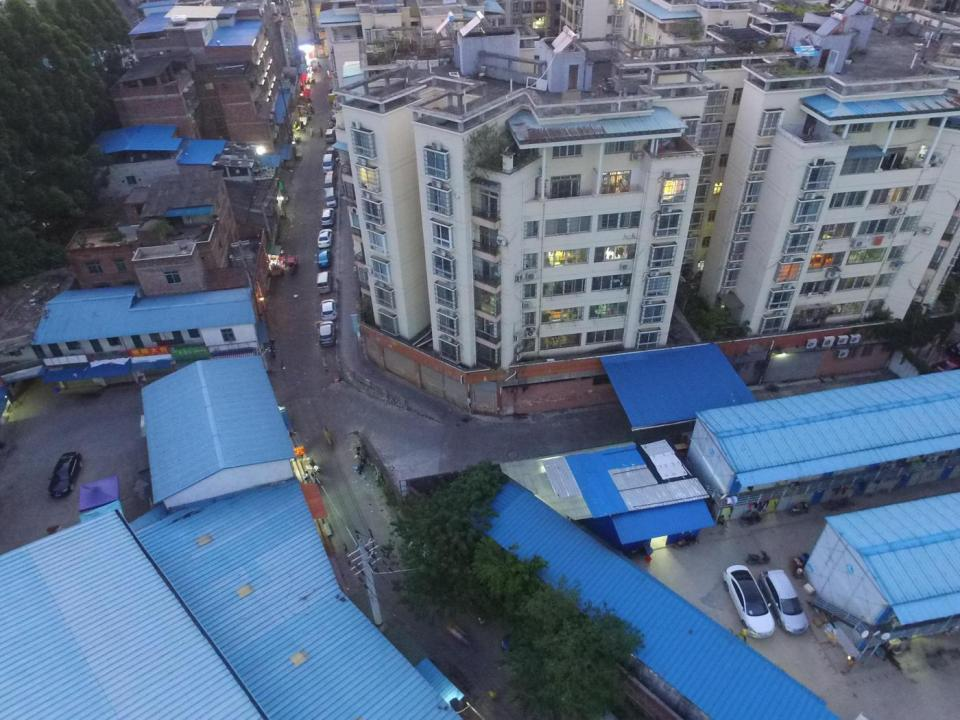car: (722, 564, 777, 639), (757, 568, 809, 636), (46, 449, 84, 499), (318, 320, 335, 346), (320, 298, 336, 320), (317, 228, 332, 248), (320, 207, 334, 227), (317, 249, 329, 267)
van: (316, 271, 331, 293), (322, 153, 336, 175), (323, 172, 337, 192), (325, 187, 338, 208), (325, 128, 337, 144)
